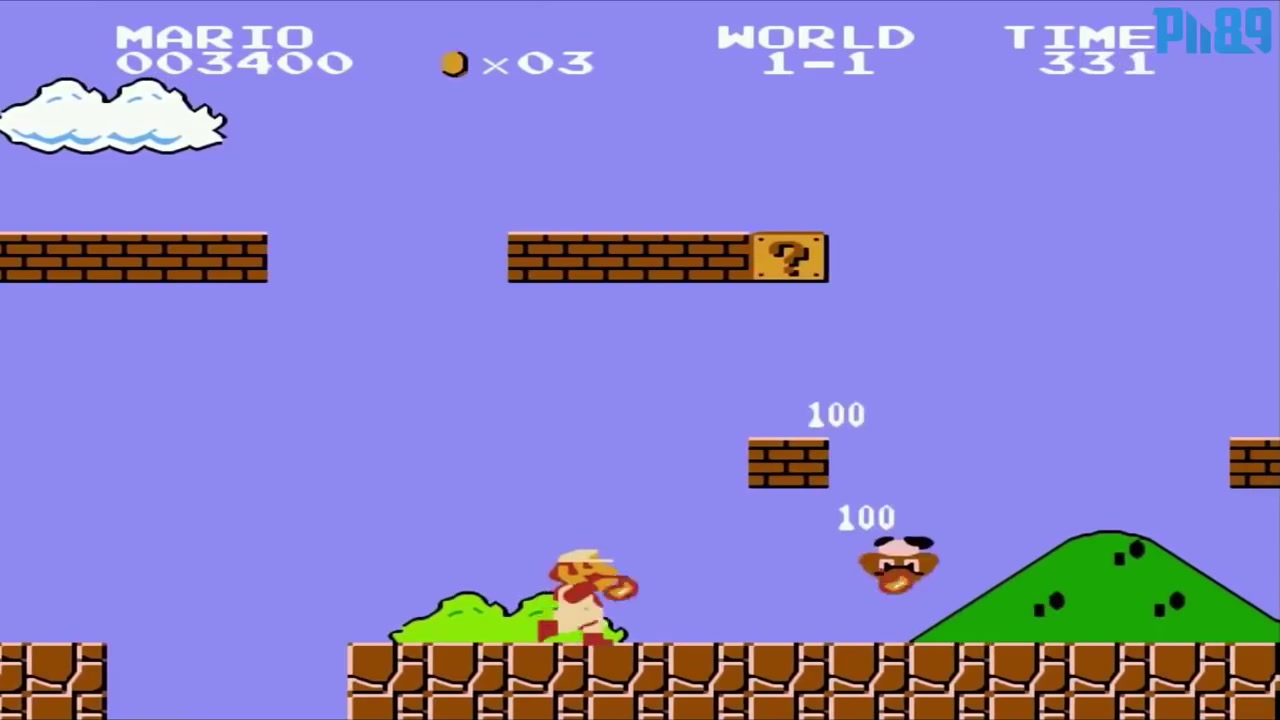mario: (523, 545, 630, 642)
